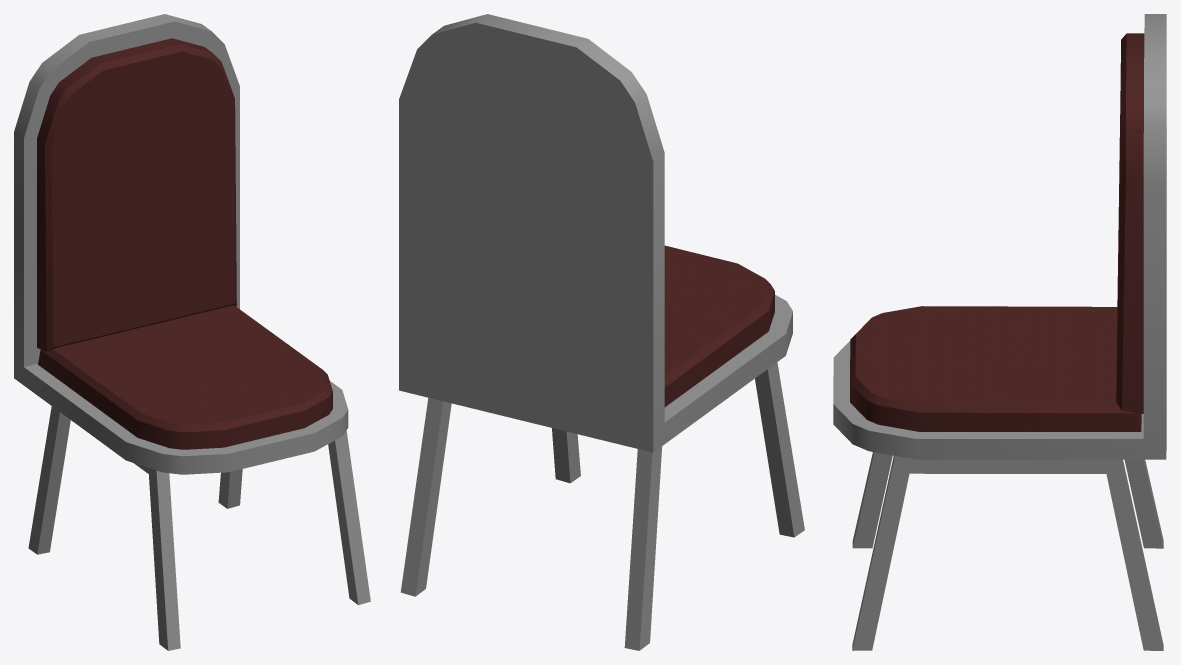
File: Prop_Chair.FBX
3 views of the same model, side by side, from view 1: azimuth 30°, elevation 25°; view 2: azimuth 150°, elevation 25°; view 3: azimuth 270°, elevation 25° (orthographic). The views are drawn at different scales.
Parts seen in each view (by area): view 1: Prop_Chair; view 2: Prop_Chair; view 3: Prop_Chair.
Boxes of the visible parts, x1,y1,x2,y2 form: Prop_Chair: [14, 14, 370, 650]; Prop_Chair: [399, 14, 804, 650]; Prop_Chair: [833, 14, 1166, 650].
Bounding box in the file's own units: 0.6682 × 1.48 × 0.8049.
